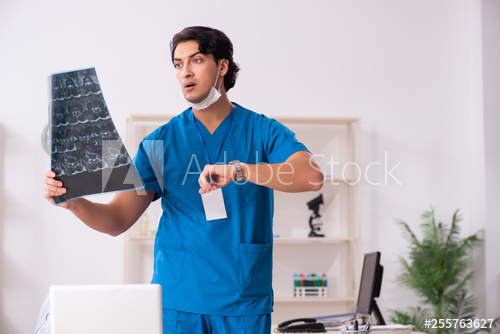mask_weared_incorrect: (169, 41, 233, 114)
